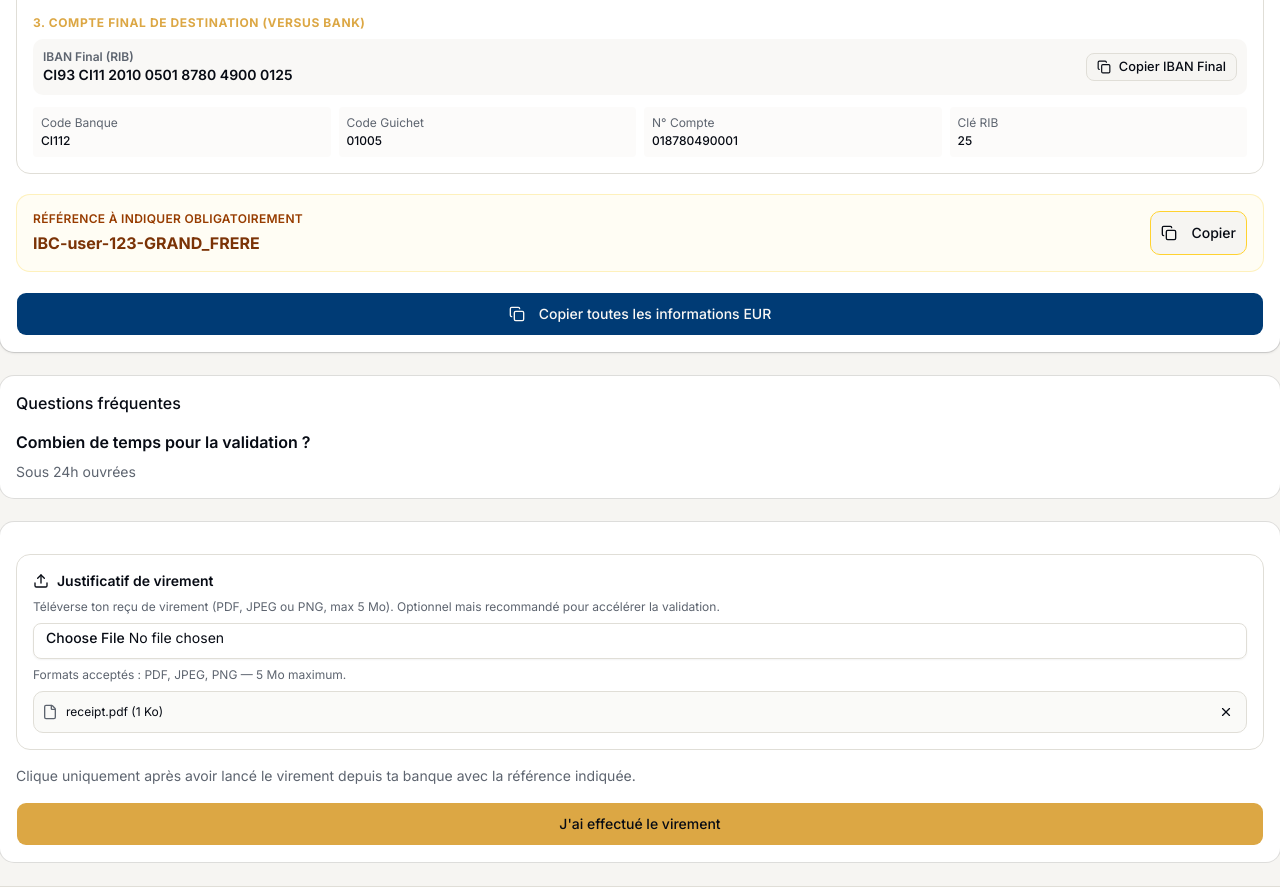
BankTransferInstructions › shows a warning toast when receipt upload fails but still confirms the subscription
(page scrolled)
Step 1. Click the button "J'ai effectué le virement" → coordinates (640, 824), box [16,802,1264,846]
(page scrolled)
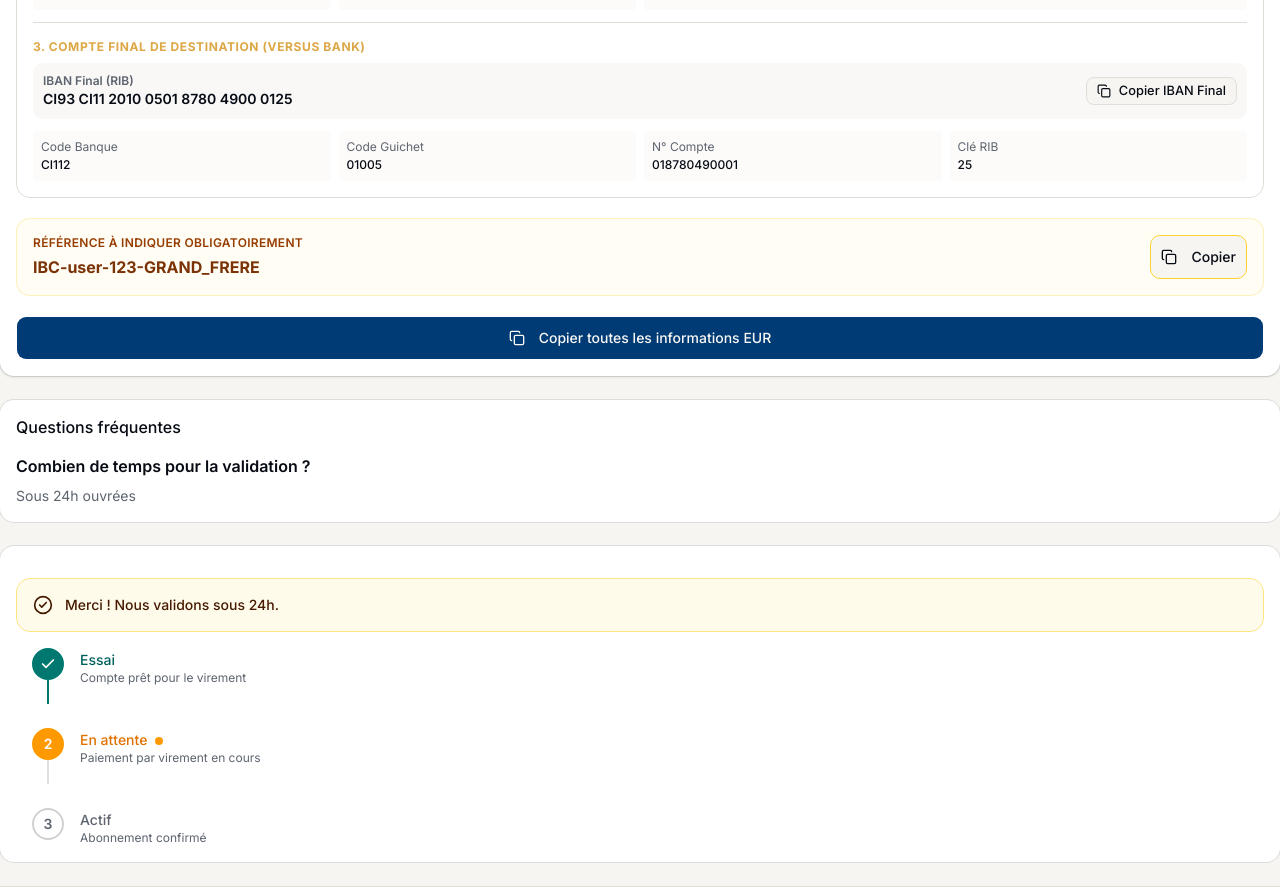
Now the element with test id "transfer-confirmation" is shown, box [16,578,1264,846]
